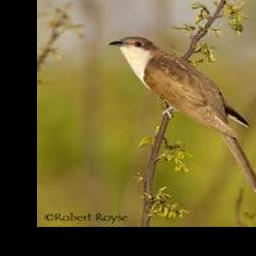Cuckoo: (108, 36, 256, 195)
